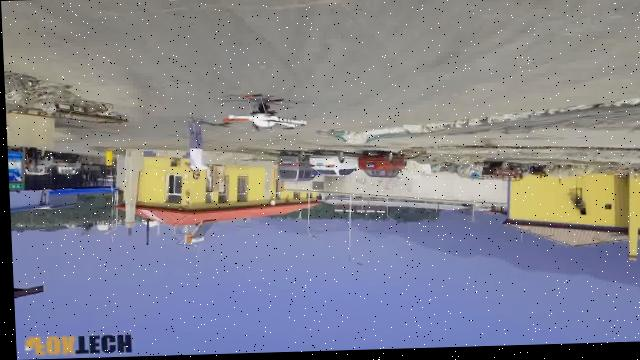drone: (211, 93, 306, 135)
